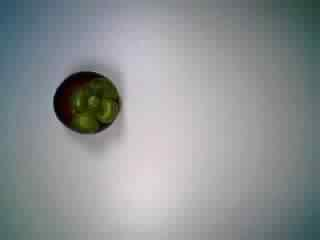mangosteen: (44, 63, 127, 138)
